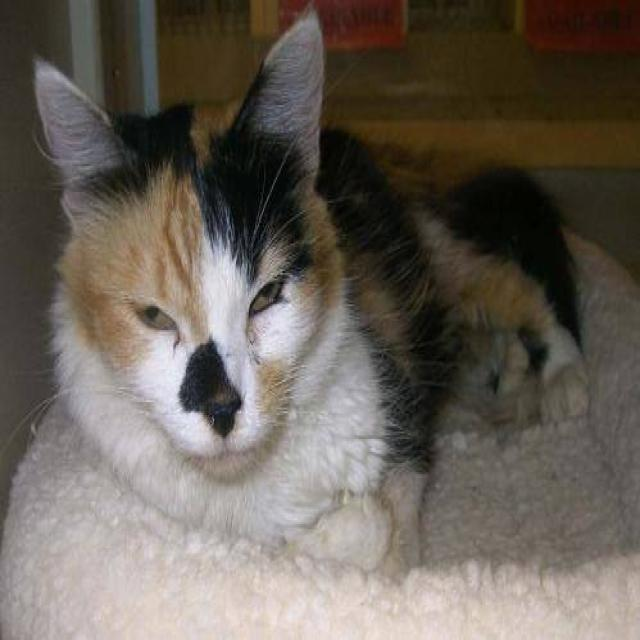cat: (27, 4, 591, 583)
